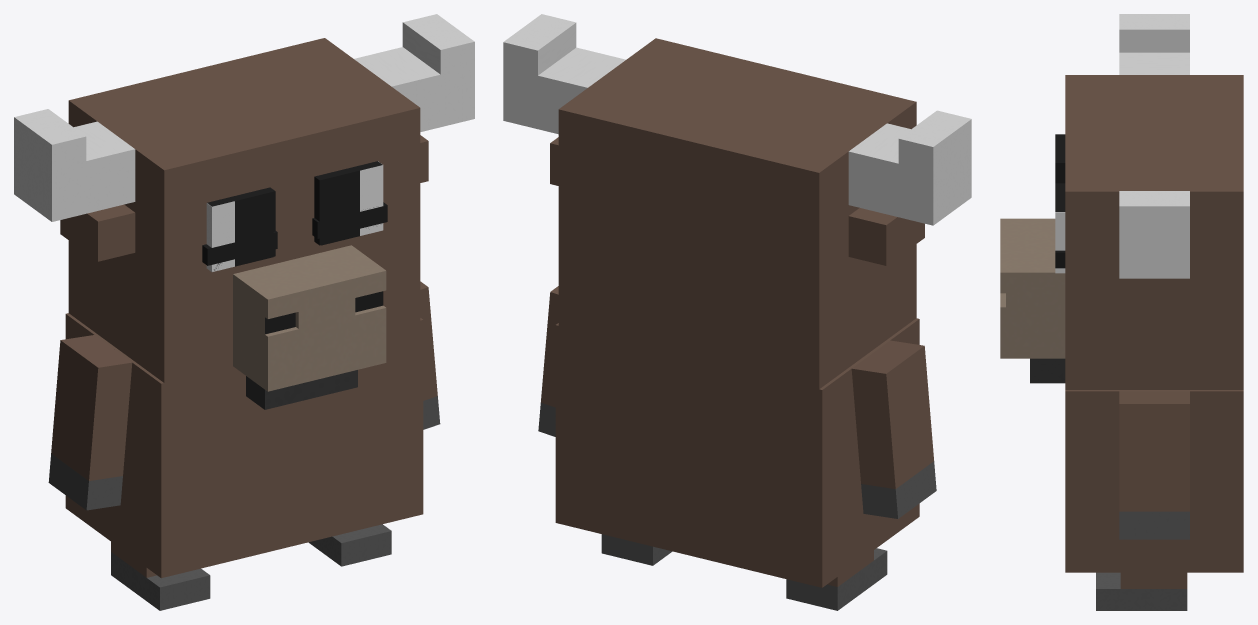
The picture shows the model from 3 angles, left to right: view 1: azimuth 30°, elevation 25°; view 2: azimuth 150°, elevation 25°; view 3: azimuth 270°, elevation 25°; orthographic projection. The views are drawn at different scales.
Visible parts, largest first — view 1: Ch_30_Head, Ch_30, Ch_30_Hand_L, Ch_30_Eye_01, Ch_30_Leg_L, Ch_30_Eye_02, Ch_30_Leg_R, Ch_30_Hand_R, Ch_30_Eye_03_R, Ch_30_Eye_03_L; view 2: Ch_30_Head, Ch_30, Ch_30_Hand_L, Ch_30_Leg_L, Ch_30_Hand_R, Ch_30_Leg_R; view 3: Ch_30_Head, Ch_30, Ch_30_Hand_R, Ch_30_Leg_R, Ch_30_Eye_03_L, Ch_30_Eye_01.
Boxes of the visible parts, box(x1,y1,x2,y2) form: Ch_30_Head: box(14, 14, 474, 409); Ch_30: box(65, 313, 423, 578); Ch_30_Hand_L: box(48, 335, 132, 510); Ch_30_Eye_01: box(206, 161, 383, 271); Ch_30_Leg_L: box(111, 542, 210, 610); Ch_30_Eye_02: box(202, 202, 387, 265); Ch_30_Leg_R: box(308, 524, 391, 566); Ch_30_Hand_R: box(420, 281, 440, 429); Ch_30_Eye_03_R: box(314, 161, 382, 245); Ch_30_Eye_03_L: box(207, 187, 275, 270); Ch_30_Head: box(503, 14, 971, 389); Ch_30: box(555, 318, 919, 587); Ch_30_Hand_L: box(851, 340, 936, 518); Ch_30_Leg_L: box(786, 548, 887, 610); Ch_30_Hand_R: box(538, 286, 558, 436); Ch_30_Leg_R: box(601, 534, 672, 565); Ch_30_Head: box(1000, 14, 1243, 389); Ch_30: box(1065, 390, 1243, 572); Ch_30_Hand_R: box(1119, 391, 1189, 539); Ch_30_Leg_R: box(1096, 572, 1187, 610); Ch_30_Eye_03_L: box(1055, 134, 1065, 183); Ch_30_Eye_01: box(1055, 212, 1065, 273).
Size of the model in its own units: 11.14 by 12.09 by 5.95.
